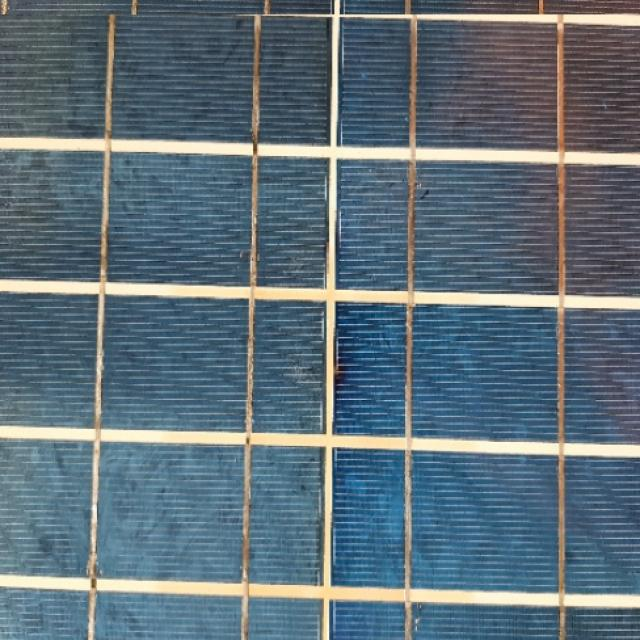Clean: (0, 14, 640, 640)
